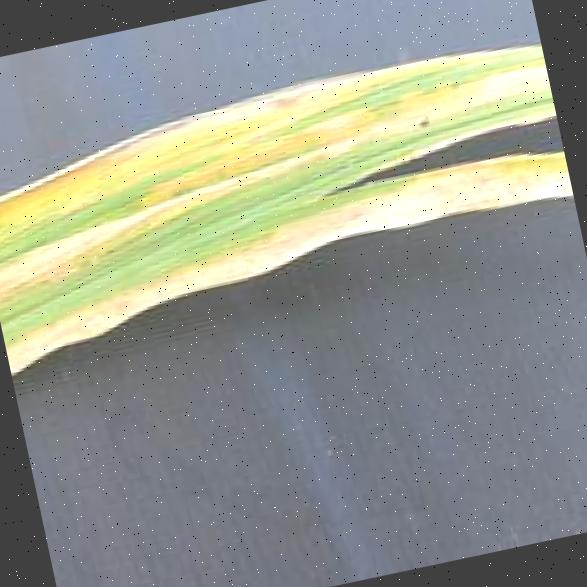Bacteria_Leaf_Blight: (0, 26, 566, 320)
